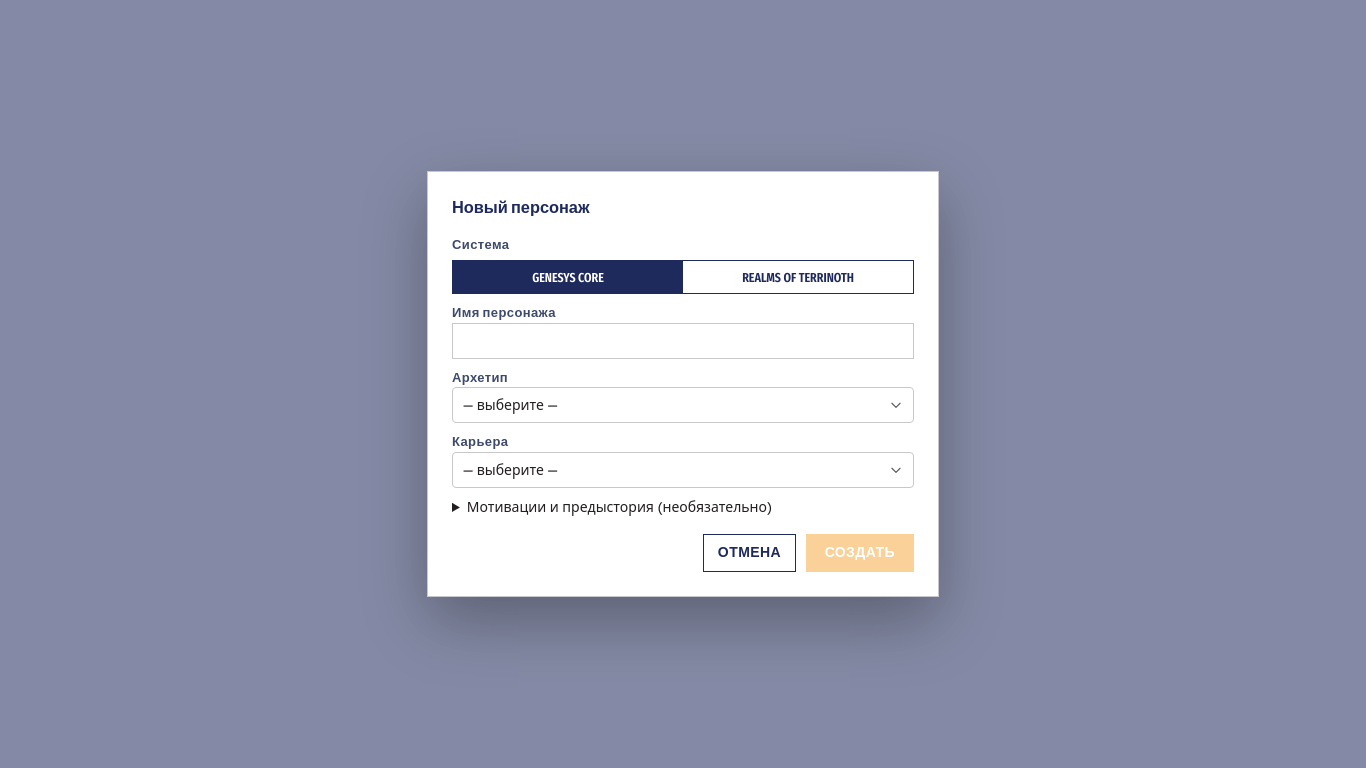
Test: CreateCharacterForm — стартовые навыки вида (U-12) › показывает фиксированные стартовые навыки выбранного вида
Click the dropdown labelled "— выберите —" below "Архетип" at {"x": 510, "y": 405}, box left=452, top=387, right=914, bottom=423
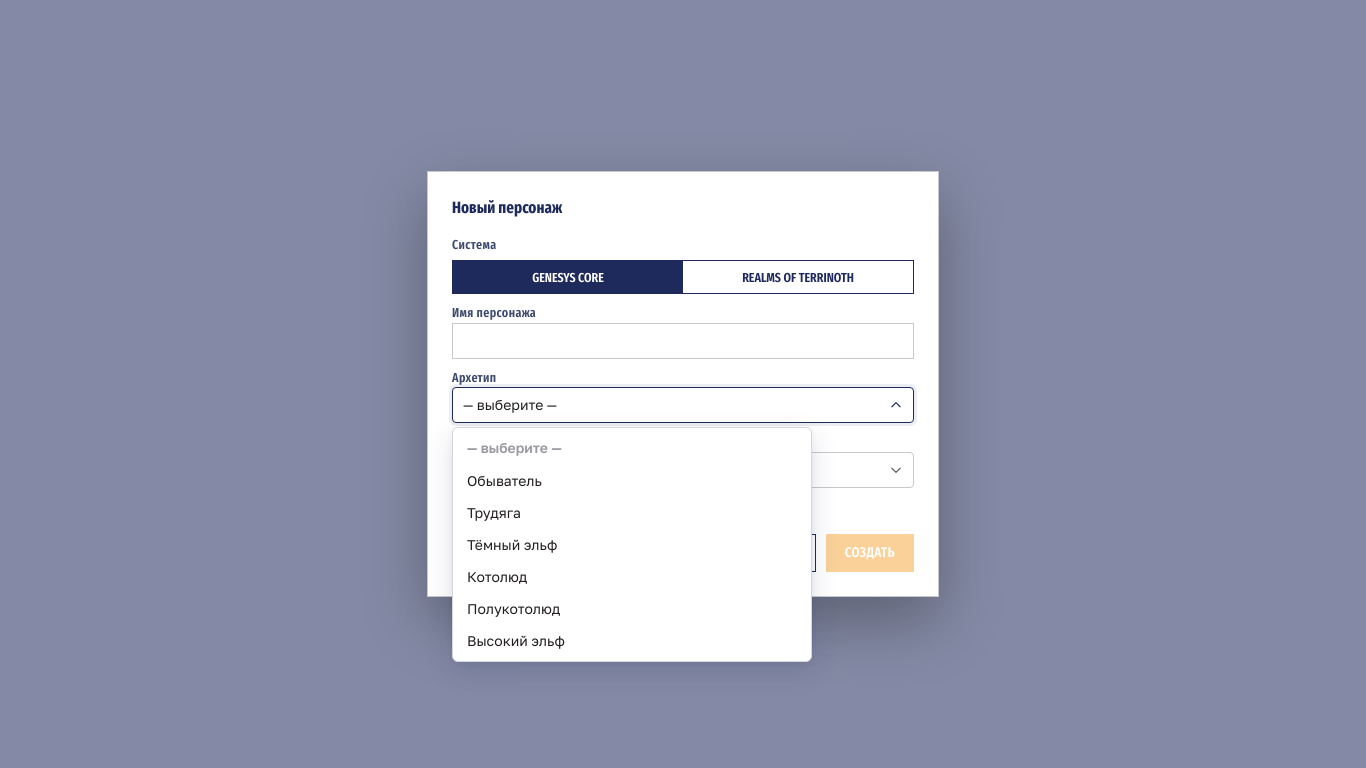
Press Escape in the dropdown, box left=452, top=387, right=914, bottom=423
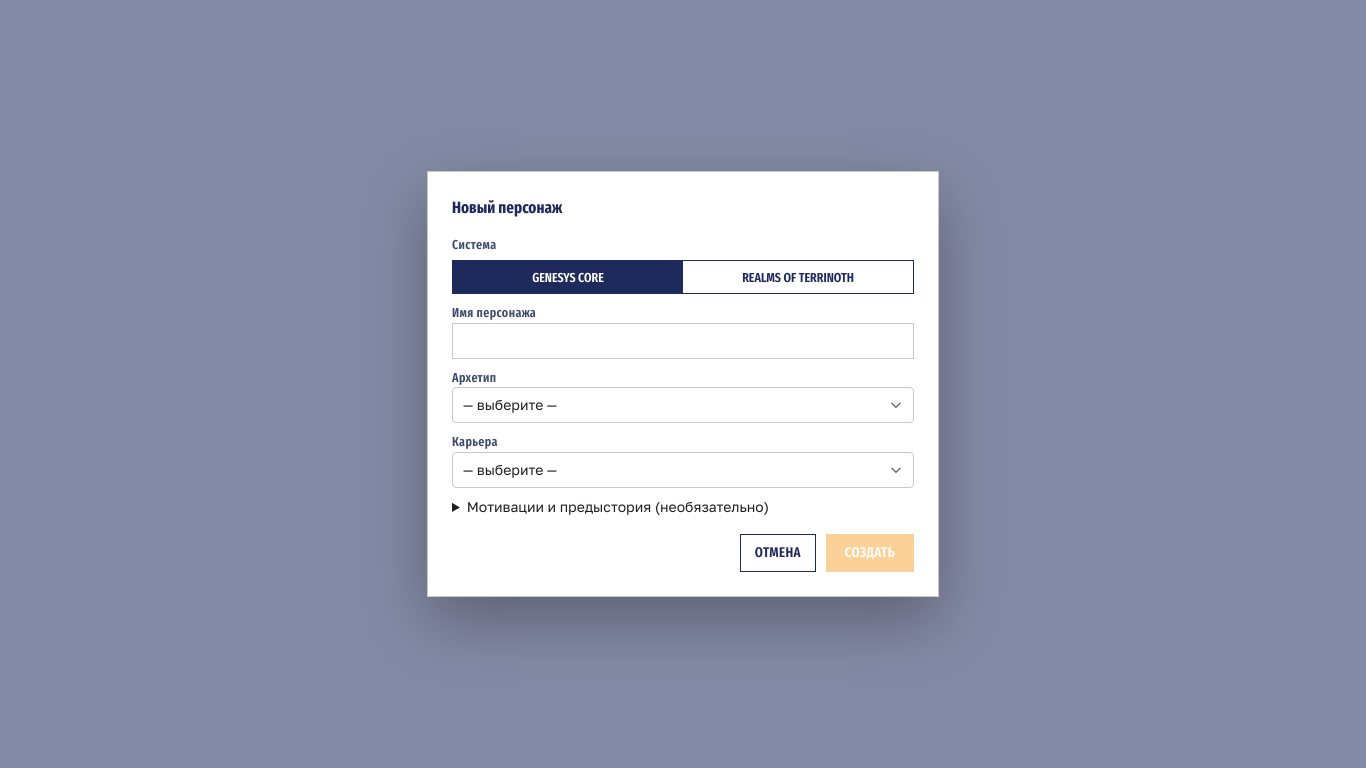
Press the mouse on the dropdown labelled "— выберите —" below "Архетип" at {"x": 510, "y": 405}, box left=452, top=387, right=914, bottom=423
Click the dropdown labelled "— выберите —" below "Архетип" at {"x": 510, "y": 405}, box left=452, top=387, right=914, bottom=423
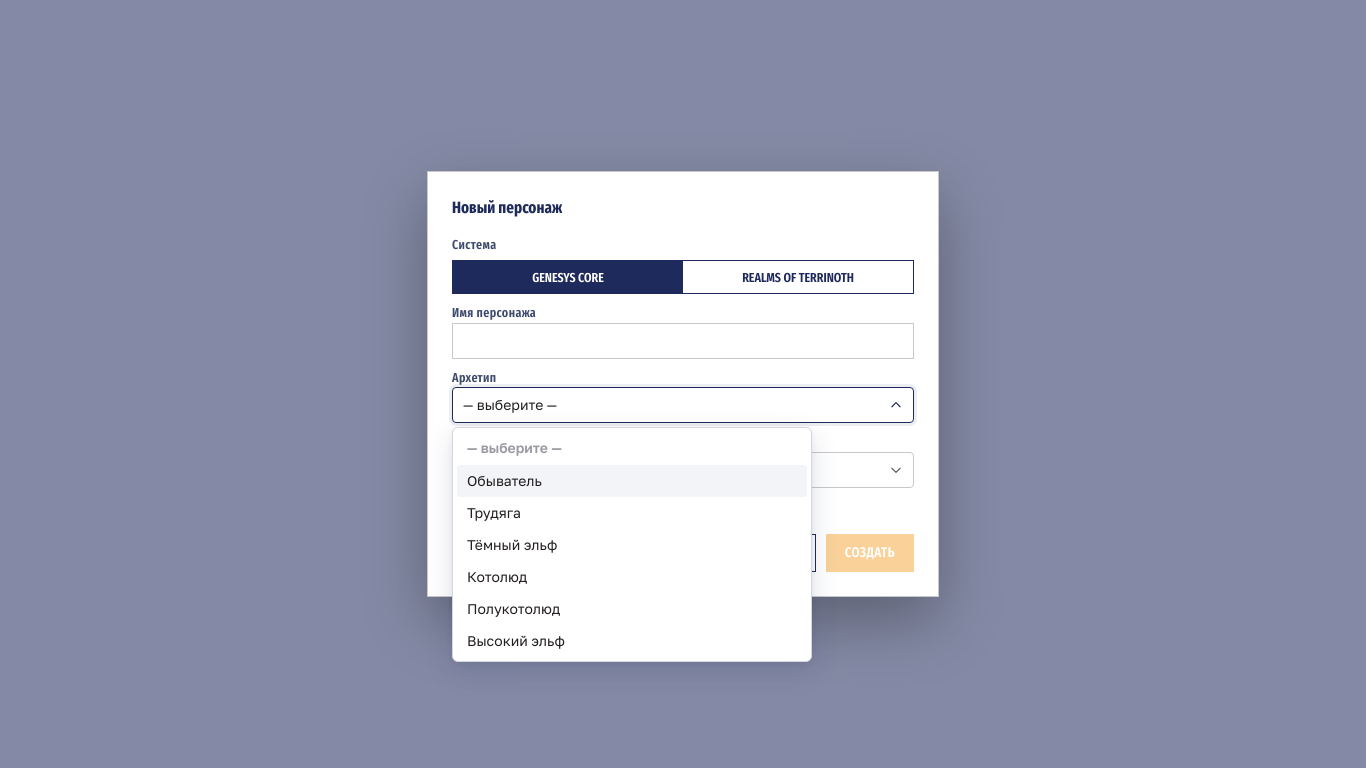
Click the option "Трудяга" at {"x": 494, "y": 512}, box left=467, top=504, right=521, bottom=521
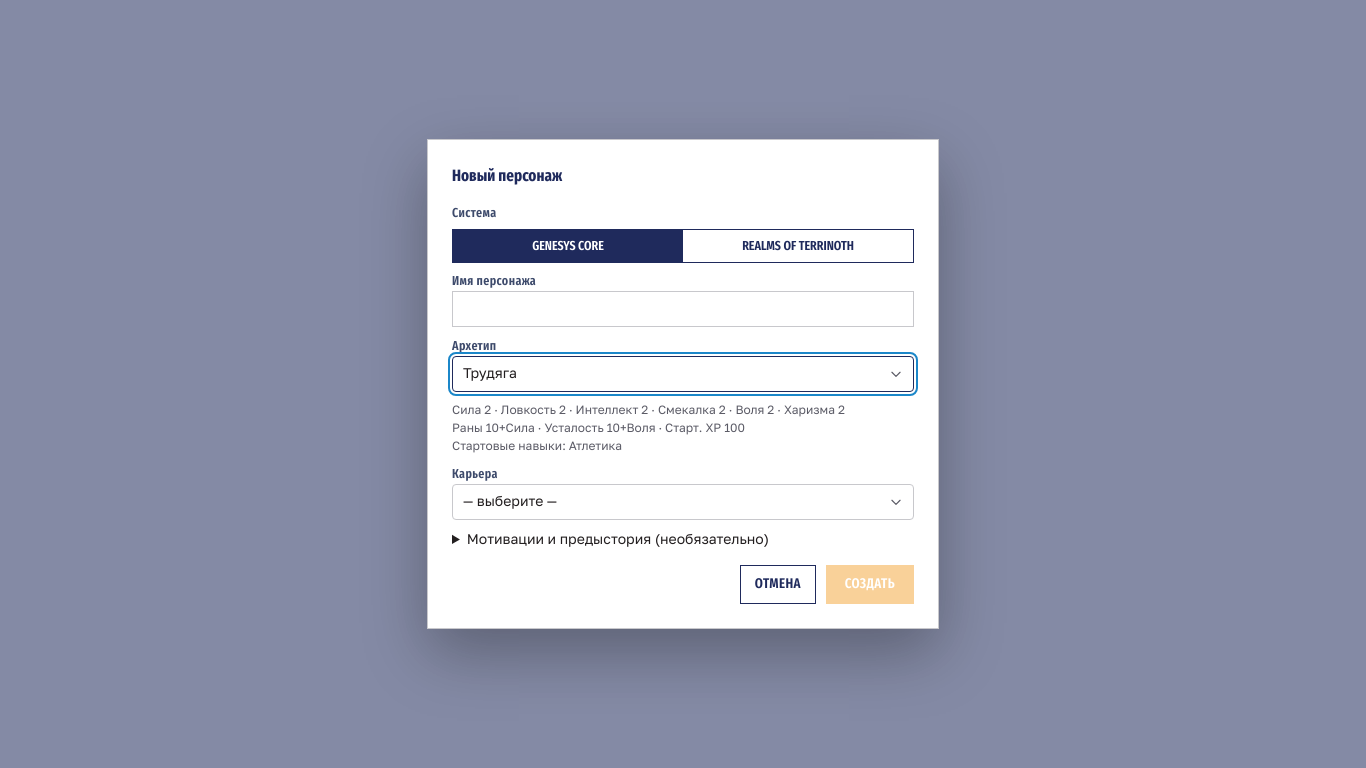
Now the text "Стартовые навыки: Атлетика" is shown, box left=452, top=401, right=914, bottom=455
